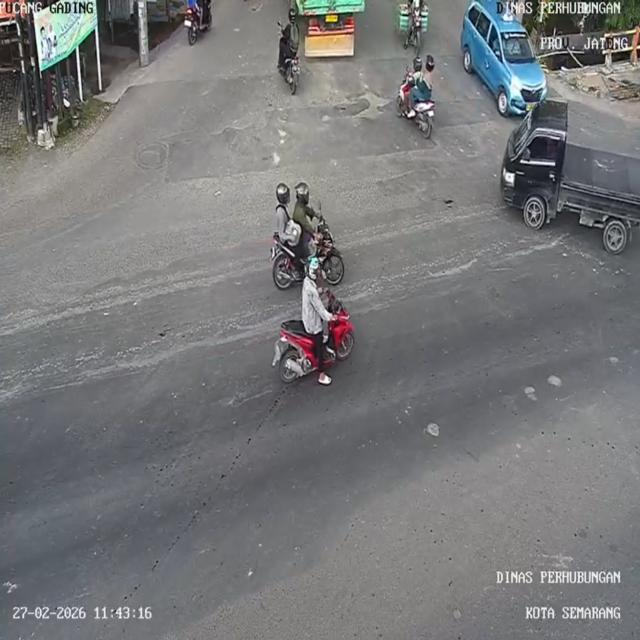motorcycle: (276, 304, 358, 382), (270, 228, 344, 290), (398, 84, 438, 138), (276, 25, 301, 97), (184, 2, 215, 49), (410, 5, 426, 57)
person: (302, 259, 333, 385), (270, 181, 303, 276), (292, 185, 318, 262), (410, 52, 435, 117), (279, 8, 302, 61), (404, 56, 424, 116)
rider_region: (274, 259, 358, 386), (266, 175, 348, 282), (394, 56, 442, 143), (272, 8, 306, 100)
